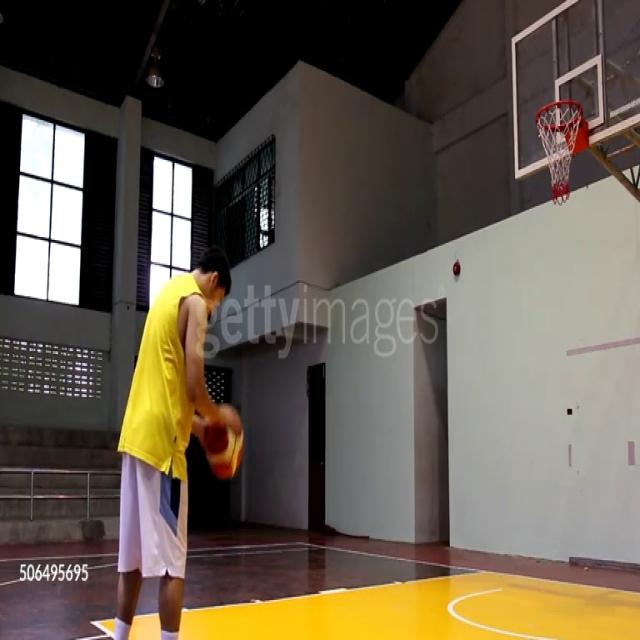ball: (203, 403, 244, 480)
